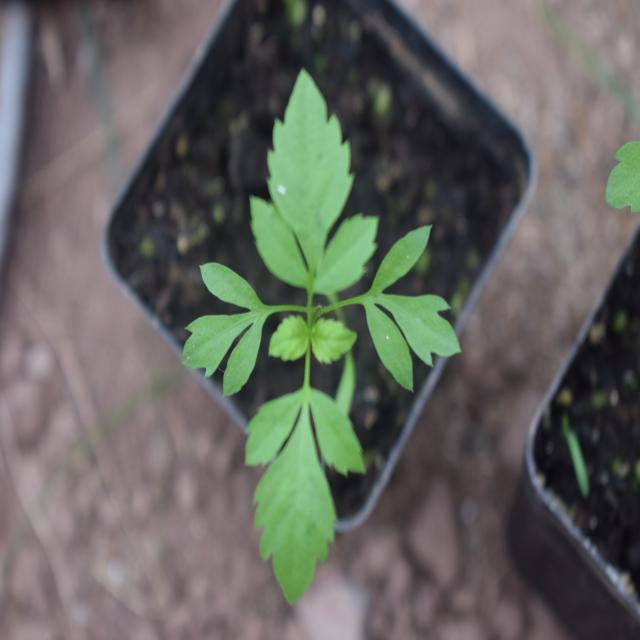Bidens pilosa: (162, 92, 468, 589)
